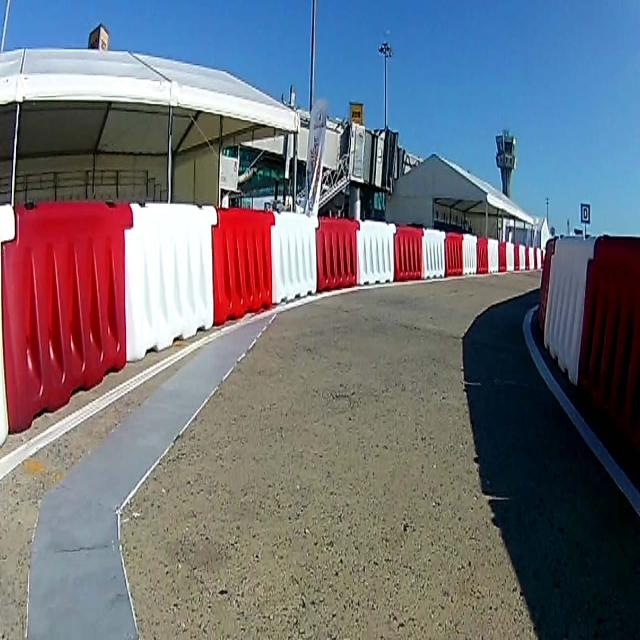durak: (581, 202, 589, 218)
